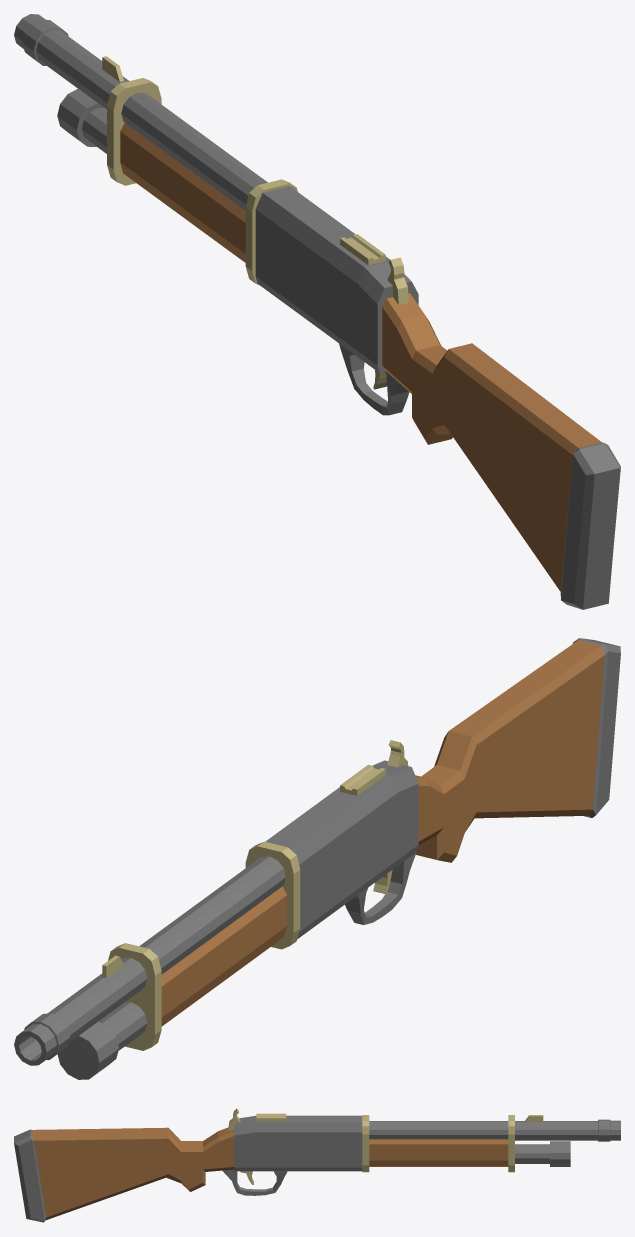
File: SemiAutomati-Schotgun.fbx
The picture shows the model from 3 angles, top to bottom: view 1: azimuth 30°, elevation 25°; view 2: azimuth 150°, elevation 25°; view 3: azimuth 270°, elevation 25°; orthographic projection. The views are drawn at different scales.
Visible parts, largest first — view 1: Shotgun_B.002; view 2: Shotgun_B.002; view 3: Shotgun_B.002.
Part boxes in pixels (left/top/right/bottom): Shotgun_B.002: left=14, top=14, right=620, bottom=609; Shotgun_B.002: left=14, top=638, right=620, bottom=1079; Shotgun_B.002: left=14, top=1108, right=620, bottom=1222.
Size of the model in its own units: 55.3 by 229 by 1149.
